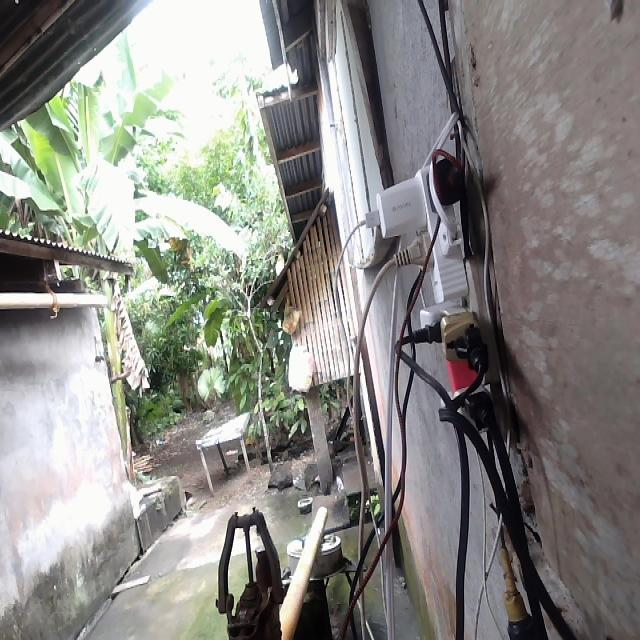-: (366, 138, 493, 434)
